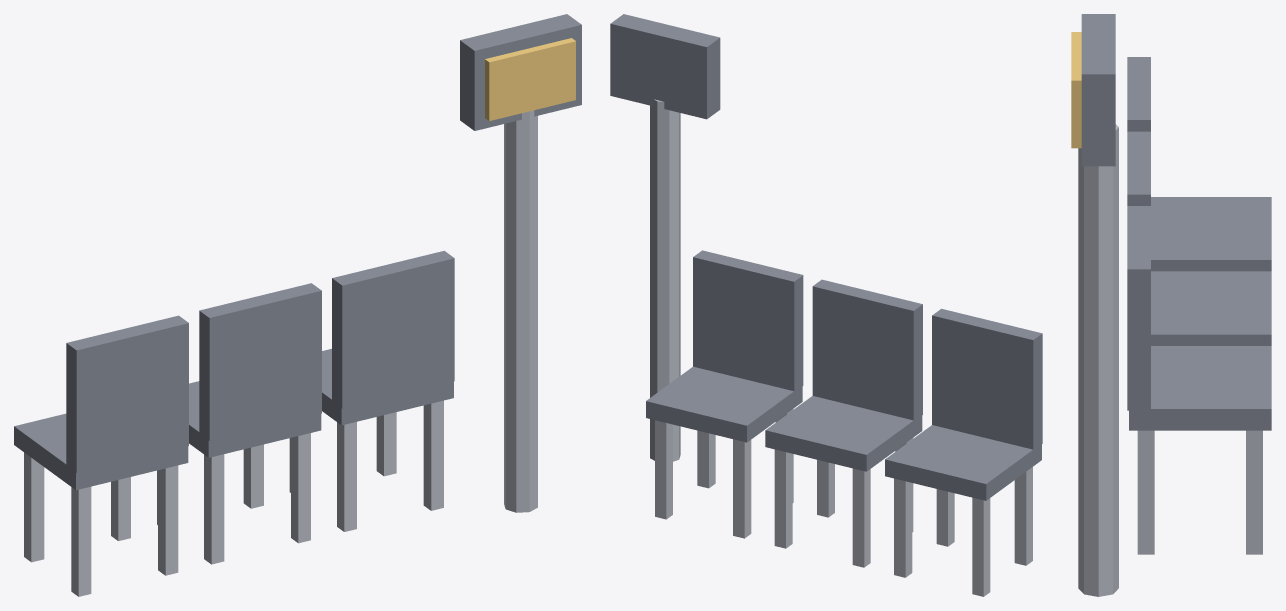
The model's file is station_intake_3.glb.
3 views of the same model, side by side, from view 1: azimuth 30°, elevation 25°; view 2: azimuth 150°, elevation 25°; view 3: azimuth 270°, elevation 25° (orthographic). The views are drawn at different scales.
Visible parts, largest first — view 1: lehne, lehne.001, lehne.002, saeule, anzeige_flaeche, anzeige_rahmen, sitz, sitz.001, sitz.002, bein.004, bein, bein.002 (+7 smaller); view 2: lehne.001, lehne, lehne.002, anzeige_rahmen, saeule, sitz.001, sitz.002, sitz, bein.005, bein.001, bein.009, bein.007 (+6 smaller); view 3: saeule, sitz.002, sitz, sitz.001, anzeige_rahmen, lehne.002, bein.010, bein.011, lehne, lehne.001, anzeige_flaeche.
Part boxes in pixels (x1,y1,x2,y2): lehne: (66, 315, 188, 473); lehne.001: (199, 283, 321, 440); lehne.002: (332, 250, 454, 408); saeule: (504, 110, 537, 512); anzeige_flaeche: (485, 38, 575, 120); anzeige_rahmen: (460, 14, 581, 130); sitz: (14, 413, 188, 490); sitz.001: (189, 381, 321, 457); sitz.002: (322, 348, 453, 425); bein.004: (204, 454, 224, 564); bein: (71, 486, 91, 596); bein.002: (158, 465, 178, 575); lehne.001: (812, 279, 922, 421); lehne: (932, 308, 1042, 450); lehne.002: (693, 250, 803, 391); anzeige_rahmen: (610, 14, 720, 119); saeule: (650, 99, 680, 461); sitz.001: (765, 396, 922, 471); sitz.002: (646, 366, 802, 442); sitz: (885, 425, 1041, 500); bein.005: (852, 468, 870, 567); bein.001: (972, 497, 990, 596); bein.009: (733, 439, 751, 538); bein.007: (774, 449, 792, 548); saeule: (1078, 124, 1118, 596); sitz.002: (1129, 346, 1271, 430); sitz: (1151, 197, 1271, 271); sitz.001: (1151, 271, 1271, 345); anzeige_rahmen: (1081, 14, 1115, 166); lehne.002: (1127, 206, 1150, 410); bein.010: (1137, 430, 1154, 554); bein.011: (1246, 430, 1262, 554); lehne: (1127, 57, 1150, 131); lehne.001: (1127, 131, 1150, 205); anzeige_flaeche: (1071, 32, 1081, 148).
Size of the model in its own units: 1.9 by 1.77 by 0.59.
